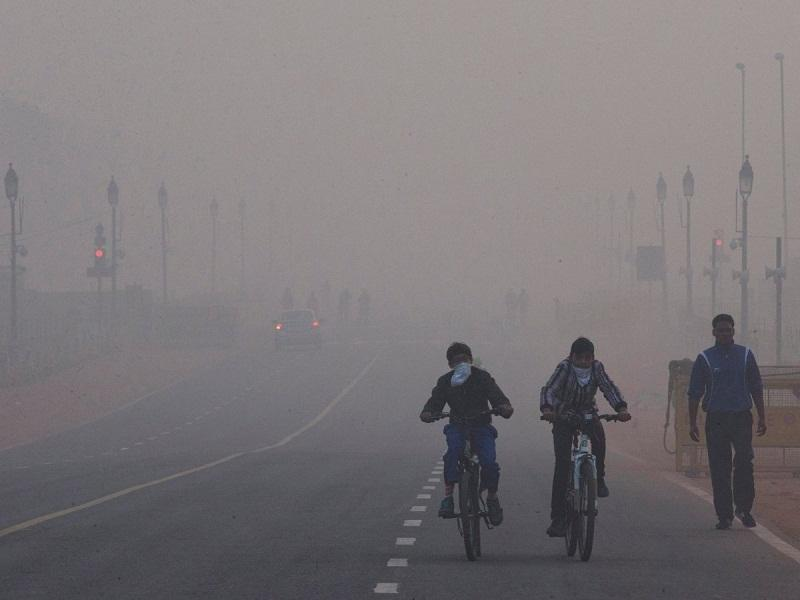bicycle: (420, 410, 514, 561), (539, 414, 632, 561)
car: (269, 308, 321, 351)
person: (538, 337, 631, 536), (419, 341, 514, 527), (687, 314, 767, 530), (514, 288, 531, 332), (504, 288, 517, 332), (305, 291, 320, 322), (338, 287, 352, 320), (280, 287, 294, 320), (358, 288, 371, 323)
